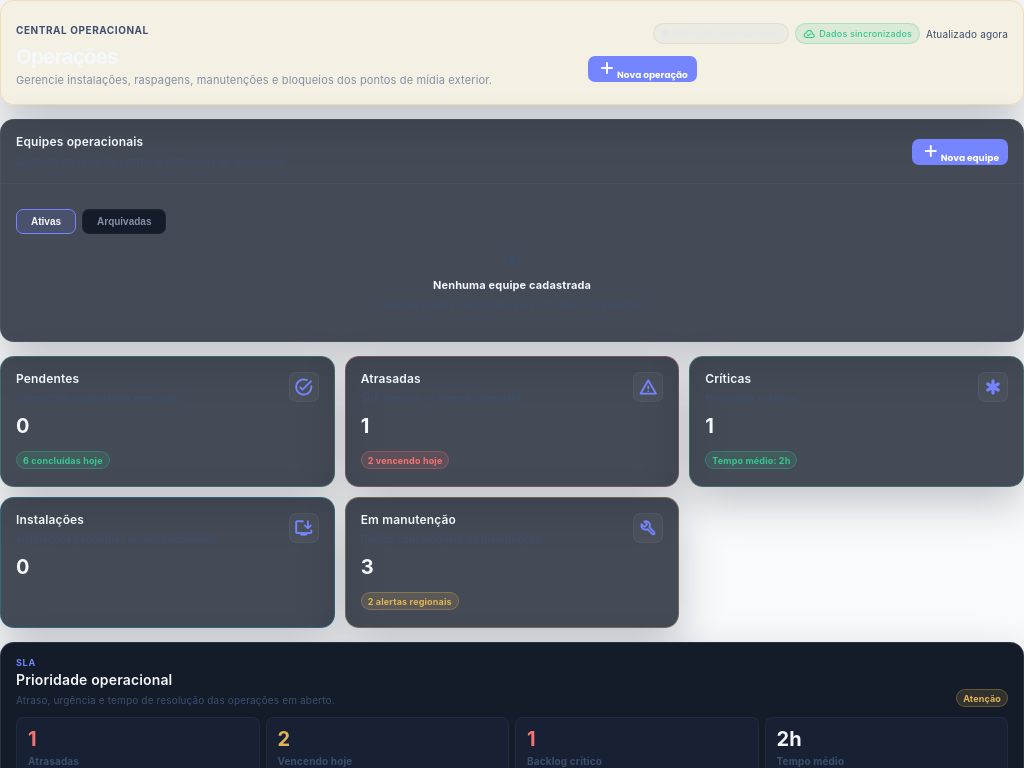
Test case: OperationsPage smoke › Tratamento de erros amigáveis › exibe mensagem amigavel e destaca o campo Placa quando criação falha com OPERATION_BOARD_NOT_FOUND
Click the button "Nova operação": point(642, 69) x1=588 y1=56 x2=697 y2=82
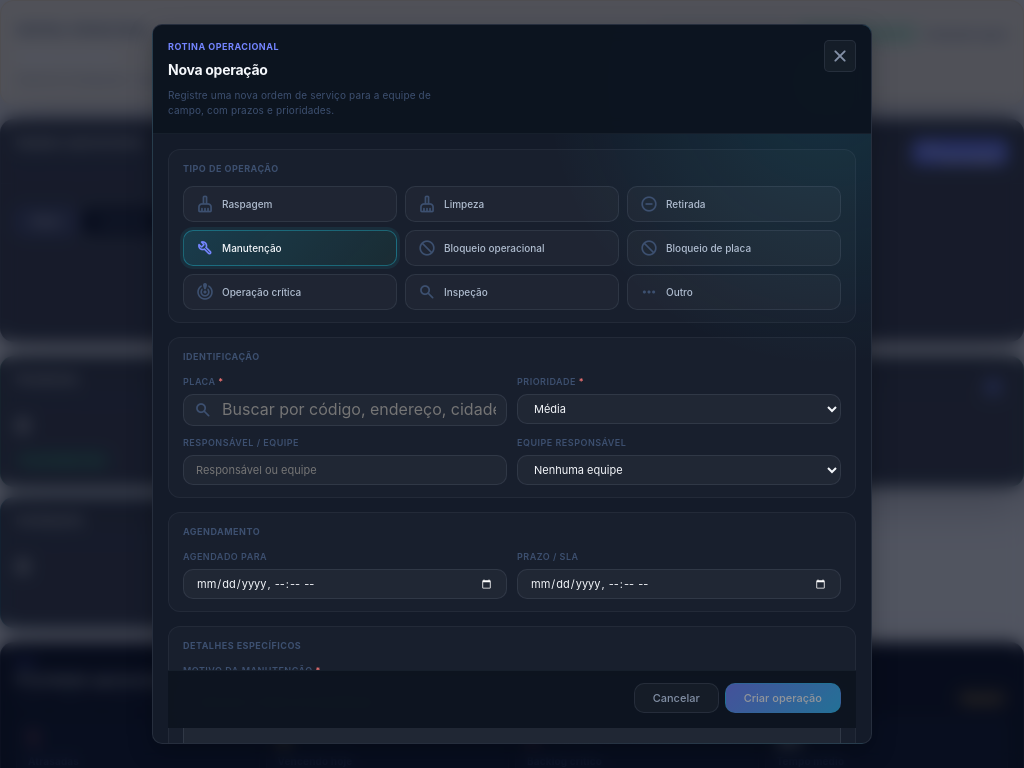
Click the radio button labelled "Raspagem": point(290, 204) x1=183 y1=186 x2=397 y2=222
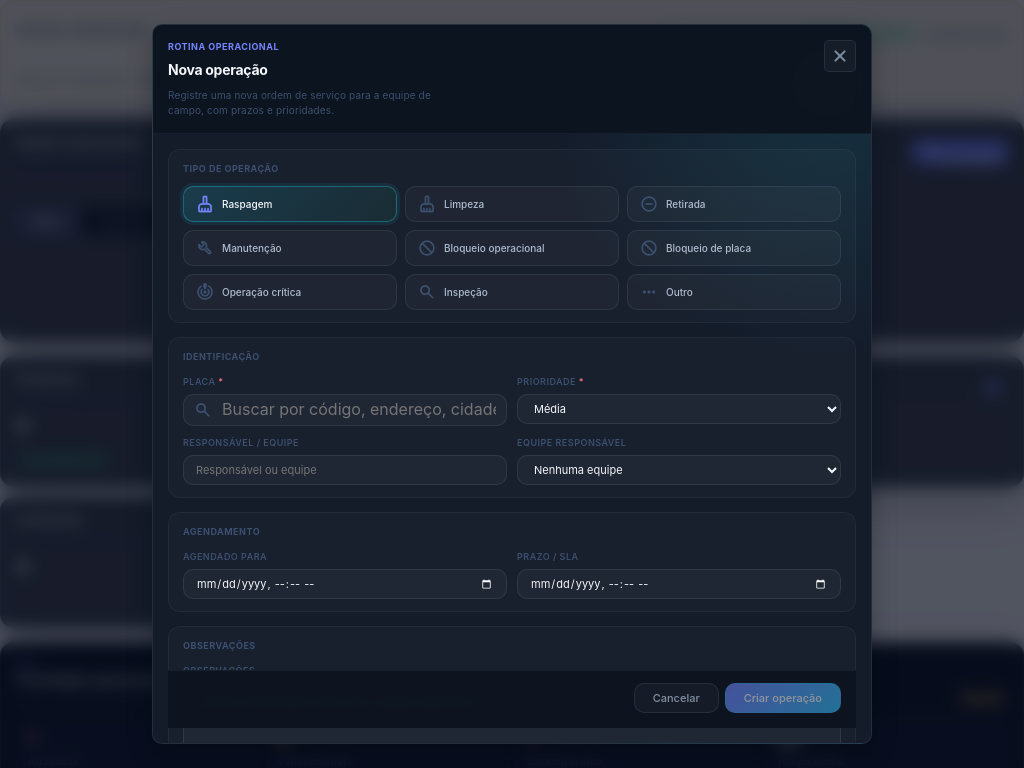
Focus the dropdown labelled "Placa *": point(359, 410) x1=212 y1=395 x2=506 y2=425
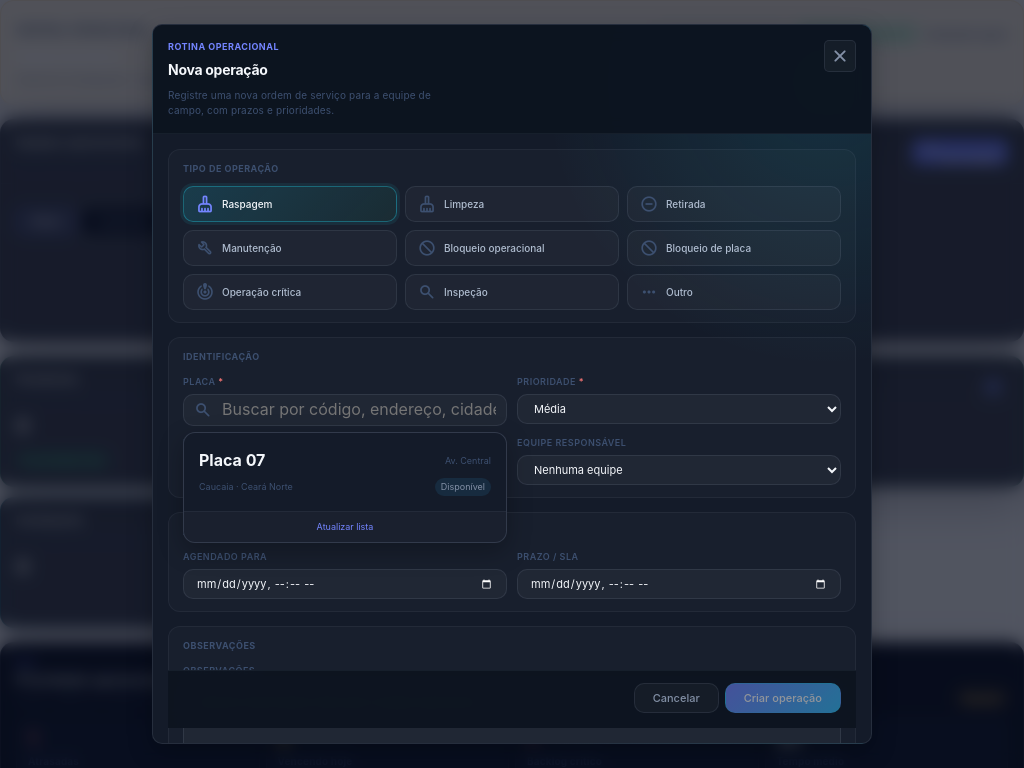
Click the button "Placa 07 Av. Central Caucaia · Ceará Norte Disponível": point(222, 460) x1=189 y1=438 x2=501 y2=506
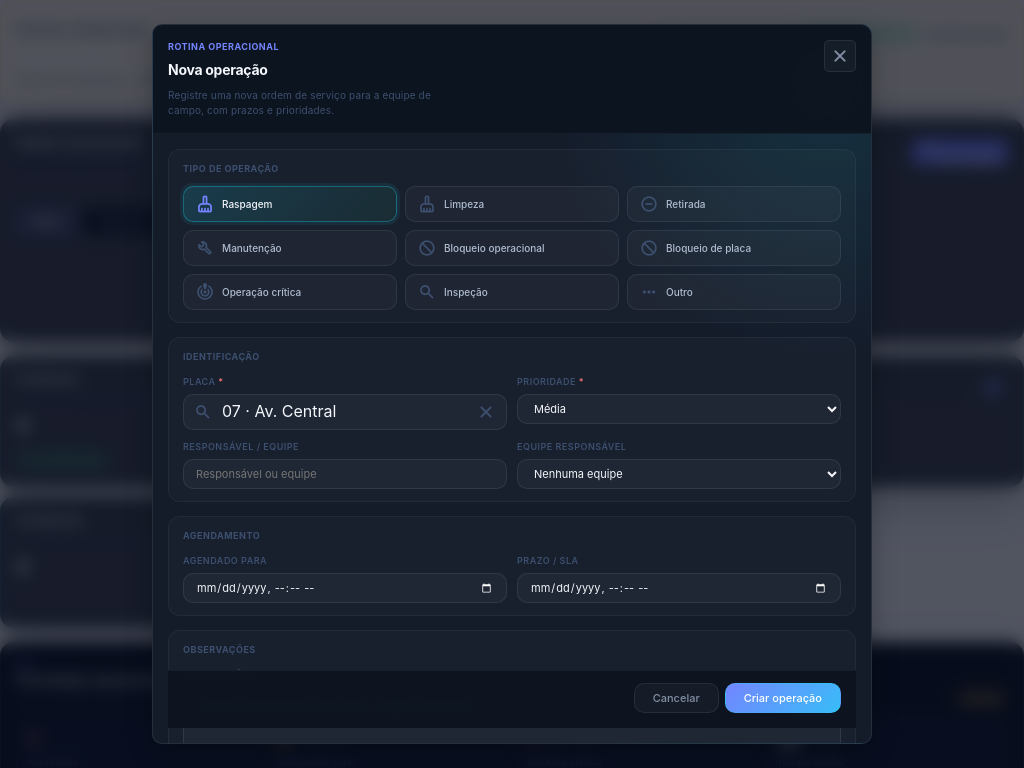
Click the button "Criar operação": point(783, 698) x1=725 y1=683 x2=841 y2=713
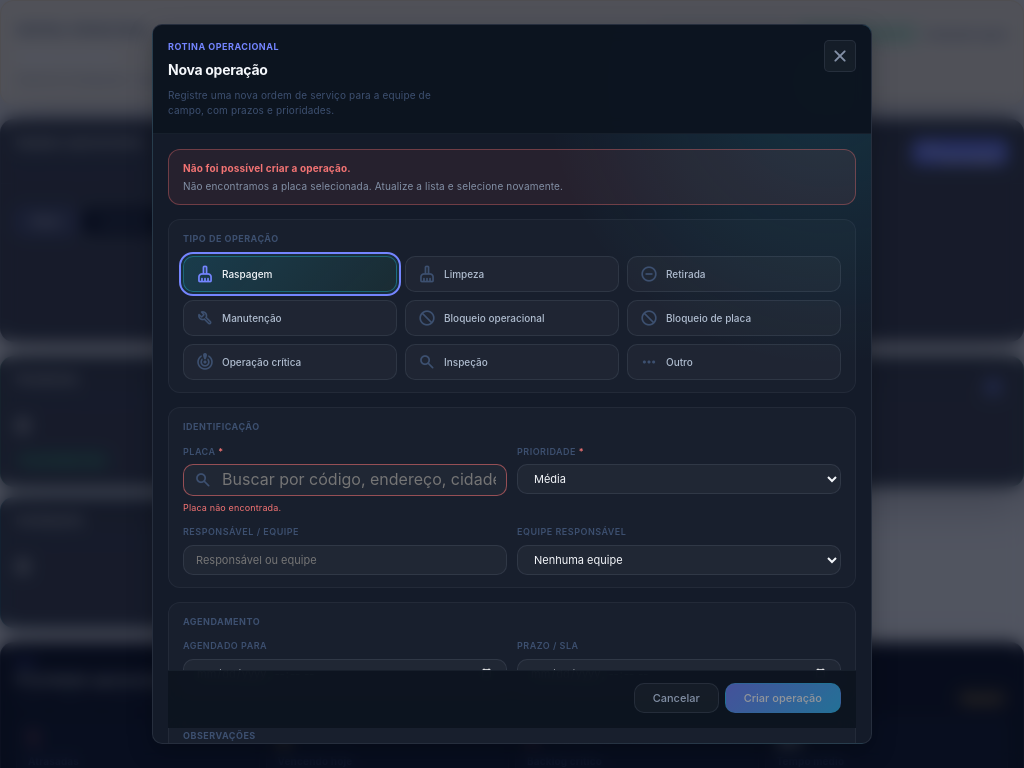
Expected: the message with test id "operation-form-error-banner" is shown, x1=168 y1=149 x2=856 y2=205
Expected: the text "Não foi possível criar a operação." is shown, x1=183 y1=162 x2=351 y2=174
Expected: the text "Não encontramos a placa selecionada" is shown, x1=183 y1=180 x2=563 y2=192
